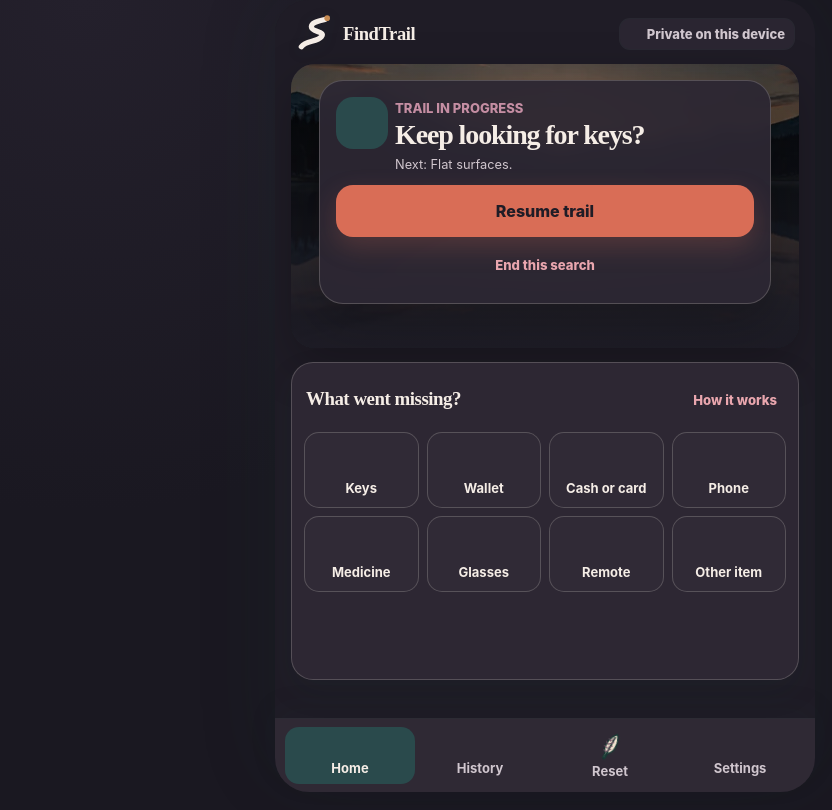
Test: FindTrail app › resumes at the focused checkpoint and reveals only the next three places
Click the button "Resume trail" at (545, 211), box [336,185,754,237]
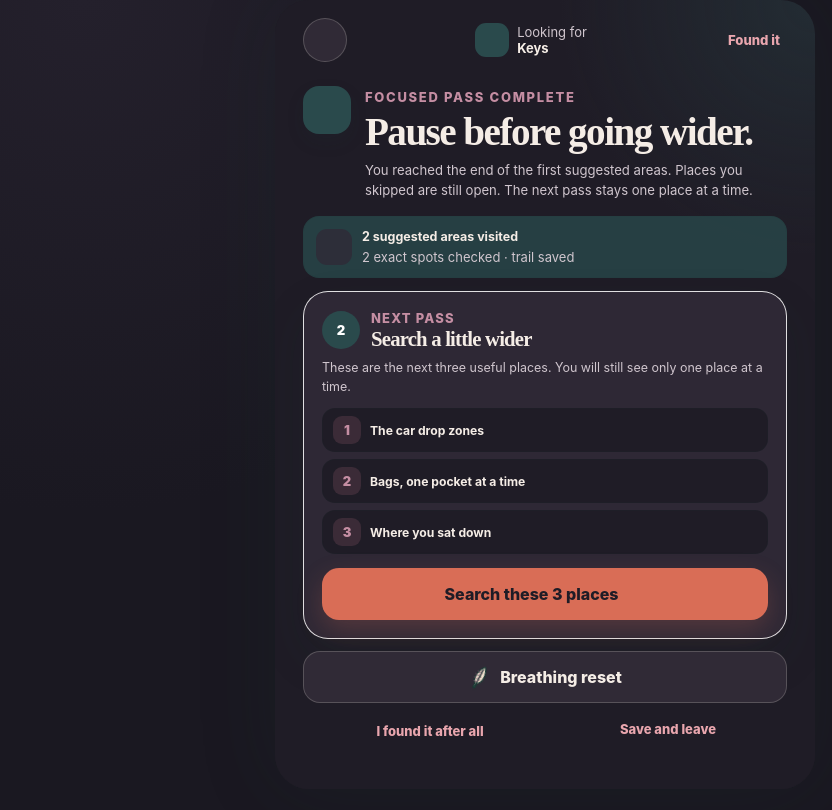
Now the heading "Pause before going wider." is shown, box [365,111,787,152]
Now the number of list items is 3, box [322,408,768,452]; [322,459,768,503]; [322,510,768,554]
Click the button "I found it after all" at (422, 729), box [303,707,541,751]
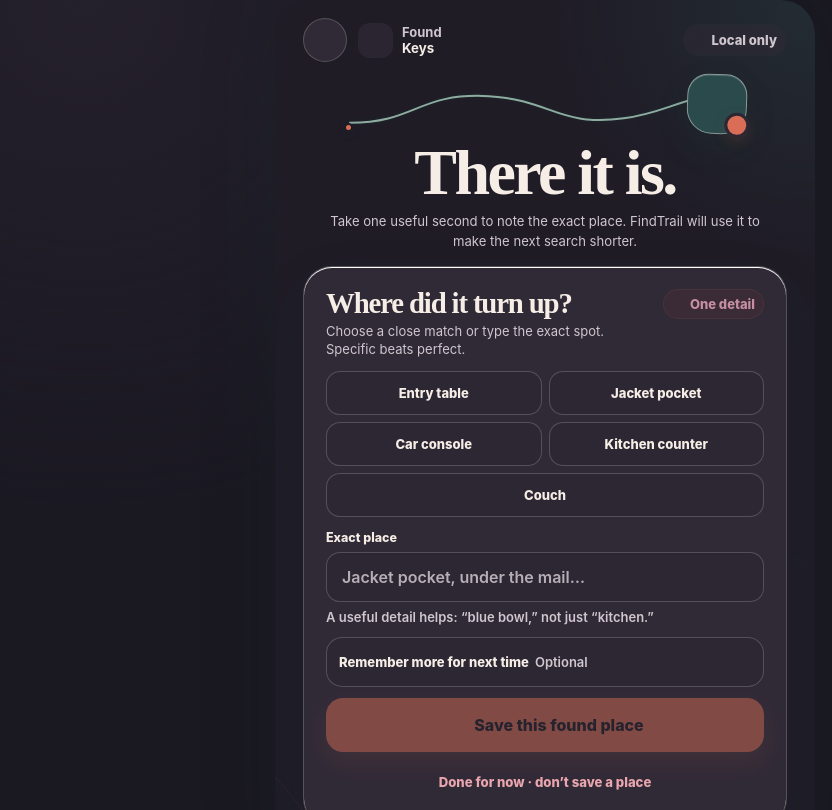
Now the field labelled "Exact place" is empty, box [326,552,764,602]
Click the button named "Back to search" at (325, 40), box [303,18,347,62]
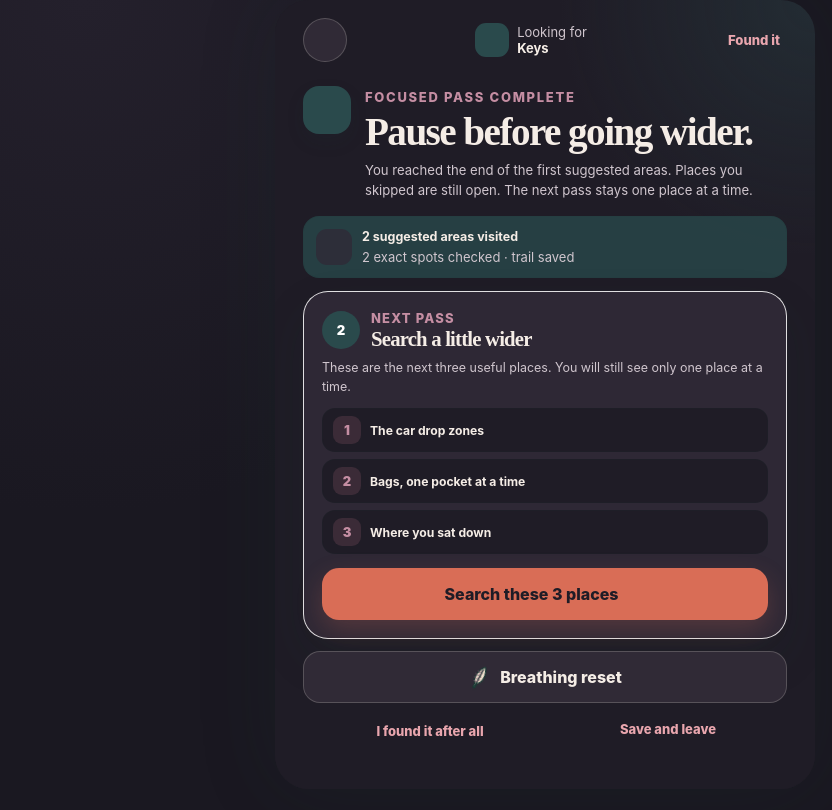
Click the button "Search these 3 places" at (545, 594), box [322,568,768,620]
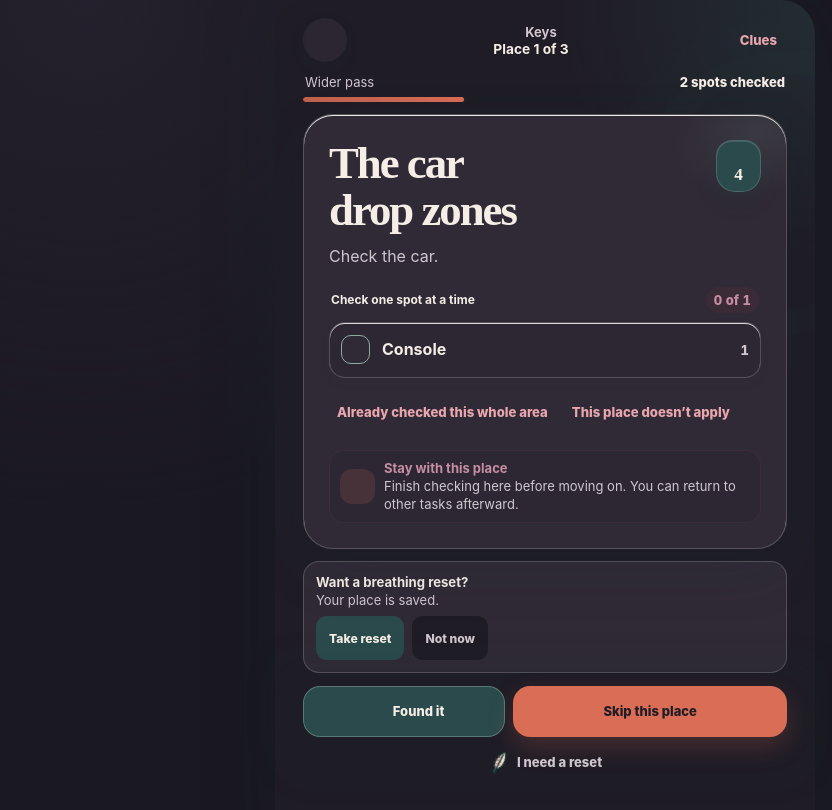
Now the heading "The car drop zones" is shown, box [329,138,516,236]
Now the text "Place 1 of 3" is shown, box [493,40,569,56]
Now the text "Want a breathing reset?" is shown, box [316,574,468,590]
